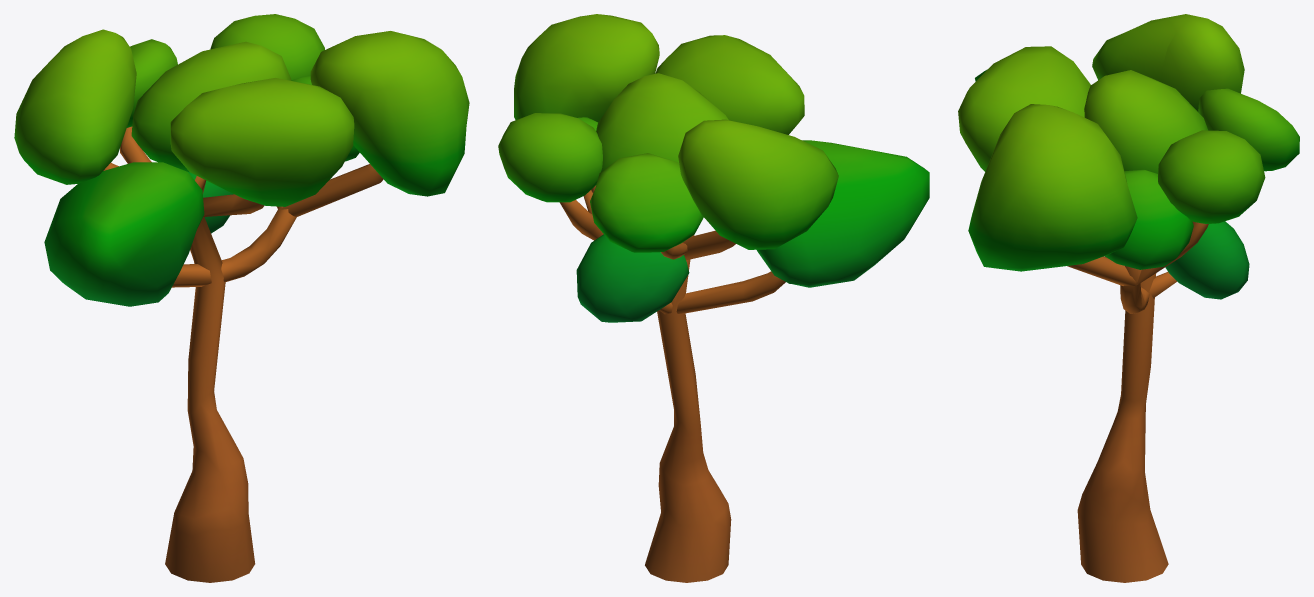
File: Tree_01.fbx
3 renders of one model, left to right at view 1: azimuth 30°, elevation 25°; view 2: azimuth 150°, elevation 25°; view 3: azimuth 270°, elevation 25°, orthographic. The views are drawn at different scales.
Parts seen in each view (by area): view 1: Tree_01; view 2: Tree_01; view 3: Tree_01.
Part boxes in pixels (x1=…): Tree_01: x1=14, y1=14, x2=469, y2=582; Tree_01: x1=498, y1=14, x2=929, y2=582; Tree_01: x1=958, y1=14, x2=1299, y2=582.
Size of the model in its own units: 271 by 331 by 201.
